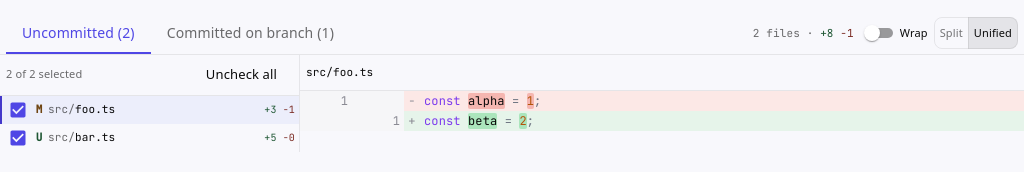
Scenario: StopSessionReviewPanel › switches the pane when another file is clicked
Expected: the text "beta" is shown, [468, 112, 497, 128]
Click the text "bar.ts": (95, 137) [75, 130, 115, 144]
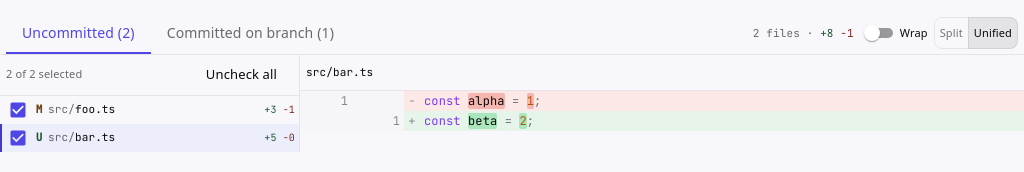
Expected: the text "src/bar.ts" is shown, [306, 64, 373, 80]
